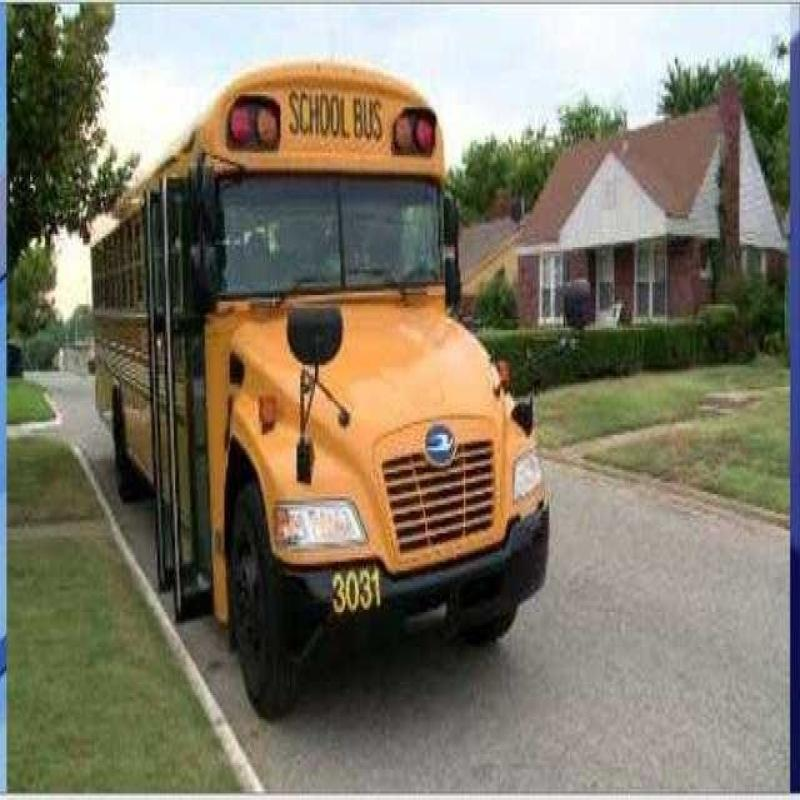bus: (84, 69, 520, 694)
